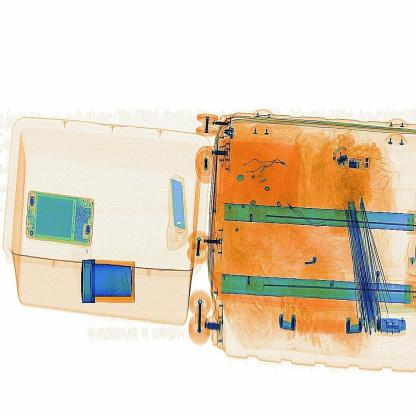pliers: (164, 170, 190, 250)
